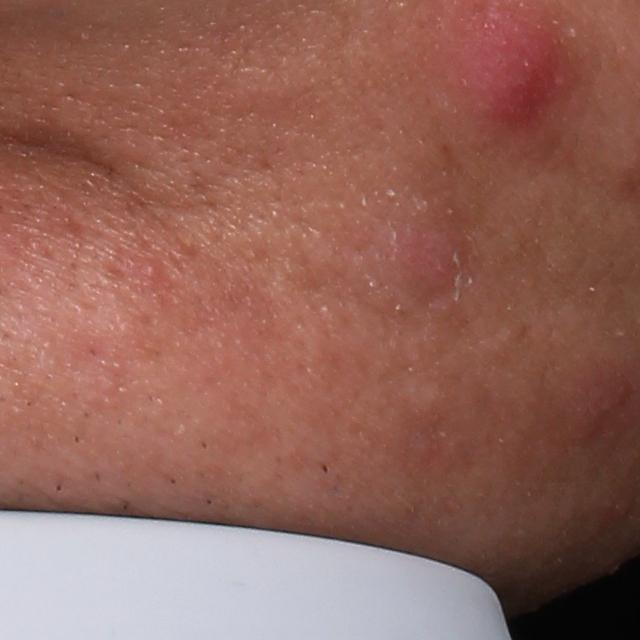hypertrophic_scar: (399, 378, 454, 412)
papule: (367, 209, 472, 302), (556, 363, 629, 446)
